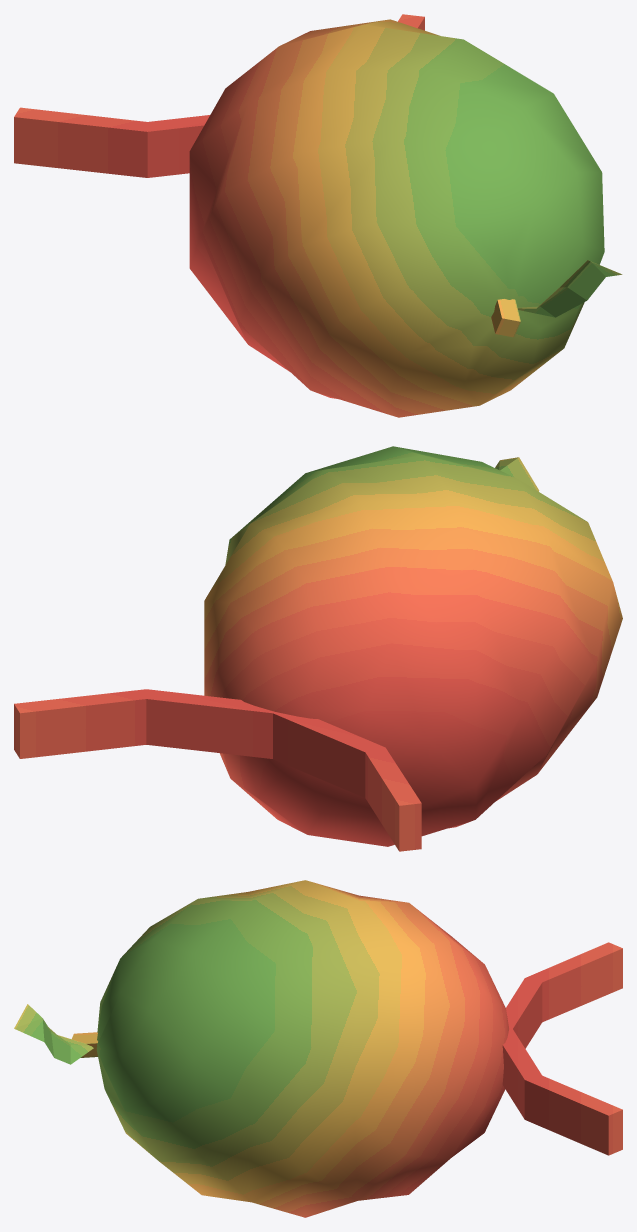
The model's file is hat-mango.glb.
3 views of the same model, one above another, from view 1: azimuth 30°, elevation 25°; view 2: azimuth 150°, elevation 25°; view 3: azimuth 270°, elevation 25° (orthographic). The views are drawn at different scales.
Parts seen in each view (by area): view 1: hat-mango; view 2: hat-mango; view 3: hat-mango.
Part boxes in pixels (x1=…): hat-mango: x1=14, y1=14, x2=622, y2=417; hat-mango: x1=14, y1=446, x2=622, y2=851; hat-mango: x1=14, y1=880, x2=622, y2=1217.
Size of the model in its own units: 0.931 by 0.7407 by 1.38.
1 material, 1 textured.
